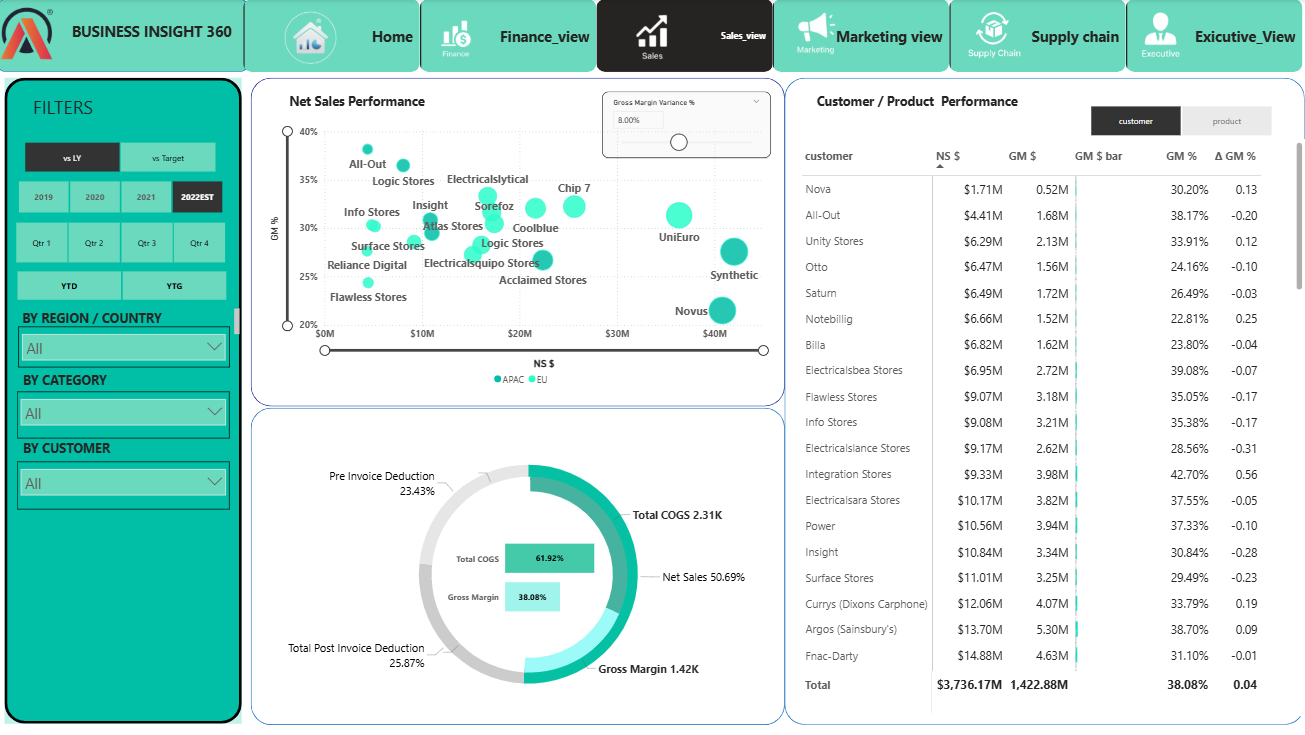

What the dashboard file says about the page in this screenshot:
{"tool":"powerbi","page":{"name":"Sales_view","canvas":[1920,1080],"ordinal":2},"visuals":[{"type":"shape","box":[11.2,115.4,348.2,947.7],"z":0},{"type":"shape","box":[372.4,115.4,783.9,482.2],"z":1000},{"type":"shape","box":[372.4,599.5,783.9,465.5],"z":2000},{"type":"shape","box":[1156.3,115.4,763.4,949.6],"z":3000},{"type":"shape","box":[0,0,369,106.9],"z":4000},{"type":"pivotTable","fields":{"Rows":["dim_customer.customer"],"Values":["Report measures.NS $","Report measures.GM $","Report measures.GM $ bar","Report measures.GM %","Report measures.Δ GM %"]},"box":[1174.9,204.8,744.8,847.2],"z":5000},{"type":"donutChart","fields":{"Category":["p & l rows.Description"],"Y":["Report measures.p&l values"]},"box":[387.3,629.3,785.7,430.1],"z":6000},{"type":"donutChart","fields":{"Category":["p & l rows.Description"],"Y":["Report measures.p&l values"]},"box":[459.9,649.8,642.4,391],"z":7000},{"type":"scatterChart","fields":{"Category":["dim_customer.customer"],"X":["Report measures.NS $"],"Y":["Report measures.GM %"],"Series":["dim_market.region"],"Size":["Report measures.NS $"]},"box":[387.7,179.1,760.6,396.9],"z":8000},{"type":"pageNavigator","box":[361.8,0,1556.3,107.1],"z":9000},{"type":"image","box":[0,0,89.4,100.5],"z":10000},{"type":"textbox","box":[104.3,27.9,268.1,46.5],"z":11000},{"type":"slicer","fields":{"Values":["set bm.Benchmark"]},"box":[11,203.6,337.5,56.9],"z":12000},{"type":"slicer","fields":{"Values":["dim_date.date.Variation.Date Hierarchy.Quarter"]},"box":[2.1,320.7,357.1,72.7],"z":13000},{"type":"slicer","fields":{"Values":["fiscal_year.fy_desc"]},"box":[2.1,260.8,357.1,59.9],"z":14000},{"type":"slicer","fields":{"Values":["dim_date.Ytd_Ytg"]},"box":[4.3,393.4,357.1,55.6],"z":15000},{"type":"slicer","fields":{"Values":["dim_market.region","dim_market.market"]},"box":[32.1,481.1,310,59.9],"z":16000},{"type":"slicer","fields":{"Values":["dim_customer.customer"]},"box":[29.9,677.8,312.2,70.6],"z":17000},{"type":"slicer","fields":{"Values":["category.category"]},"box":[29.9,575.1,312.2,68.4],"z":18000},{"type":"textbox","box":[48,136.6,144,46.2],"z":19000},{"type":"textbox","box":[31.3,450,329.7,50.1],"z":20000},{"type":"textbox","box":[33.4,540.5,175.3,35.5],"z":21000},{"type":"textbox","box":[33.4,642.8,194.1,35.5],"z":22000},{"type":"image","box":[1661.5,5.5,96,99.7],"z":23000},{"type":"image","box":[889.8,0,142.2,105.2],"z":24000},{"type":"image","box":[631.4,0,90.5,107.1],"z":25000},{"type":"image","box":[1153.8,3.7,88.6,97.8],"z":26000},{"type":"image","box":[1410.5,0,103.4,105.2],"z":27000},{"type":"clusteredBarChart","fields":{"Category":["p & l rows.Description"],"Y":["Report measures.p&l values"]},"box":[655.4,735.5,273.7,221.6],"z":28000},{"type":"slicer","fields":{"Values":["Param 003(sv).Param 003(sv)"]},"box":[1579.3,150.4,315.5,56.9],"z":29000},{"type":"slicer","fields":{"Values":["Target gap Tolerance.Target gap Tolerance"]},"box":[887.8,135.7,247.6,97.2],"z":30000},{"type":"textbox","box":[423.7,132.1,223.8,34.9],"z":31000},{"type":"textbox","box":[1197.8,132.1,339.3,34.9],"z":32000},{"type":"image","box":[348.9,0,223.4,112.6],"z":33000}]}

Visuals, with their boxes in screenshot pixels (x1, y1, x2, y2), scaled from the page's 1920x1080 canvas onto the 1305x735 screenshot:
shape: locate(8, 79, 244, 723)
shape: locate(253, 79, 786, 407)
shape: locate(253, 408, 786, 725)
shape: locate(786, 79, 1304, 725)
shape: locate(0, 0, 251, 73)
pivotTable - dim_customer.customer x Report measures.NS $: locate(799, 139, 1304, 716)
donutChart - p & l rows.Description x Report measures.p&l values: locate(263, 428, 797, 721)
donutChart - p & l rows.Description x Report measures.p&l values: locate(313, 442, 749, 708)
scatterChart - dim_customer.customer x Report measures.NS $: locate(264, 122, 780, 392)
pageNavigator: locate(246, 0, 1304, 73)
image: locate(0, 0, 61, 68)
textbox: locate(71, 19, 253, 51)
slicer - set bm.Benchmark: locate(7, 139, 237, 177)
slicer - dim_date.date.Variation.Date Hierarchy.Quarter: locate(1, 218, 244, 268)
slicer - fiscal_year.fy_desc: locate(1, 177, 244, 218)
slicer - dim_date.Ytd_Ytg: locate(3, 268, 246, 306)
slicer - dim_market.region x dim_market.market: locate(22, 327, 233, 368)
slicer - dim_customer.customer: locate(20, 461, 233, 509)
slicer - category.category: locate(20, 391, 233, 438)
textbox: locate(33, 93, 130, 124)
textbox: locate(21, 306, 245, 340)
textbox: locate(23, 368, 142, 392)
textbox: locate(23, 437, 155, 462)
image: locate(1129, 4, 1195, 72)
image: locate(605, 0, 701, 72)
image: locate(429, 0, 491, 73)
image: locate(784, 3, 844, 69)
image: locate(959, 0, 1029, 72)
clusteredBarChart - p & l rows.Description x Report measures.p&l values: locate(445, 501, 631, 651)
slicer - Param 003(sv).Param 003(sv): locate(1073, 102, 1288, 141)
slicer - Target gap Tolerance.Target gap Tolerance: locate(603, 92, 772, 159)
textbox: locate(288, 90, 440, 114)
textbox: locate(814, 90, 1045, 114)
image: locate(237, 0, 389, 77)
